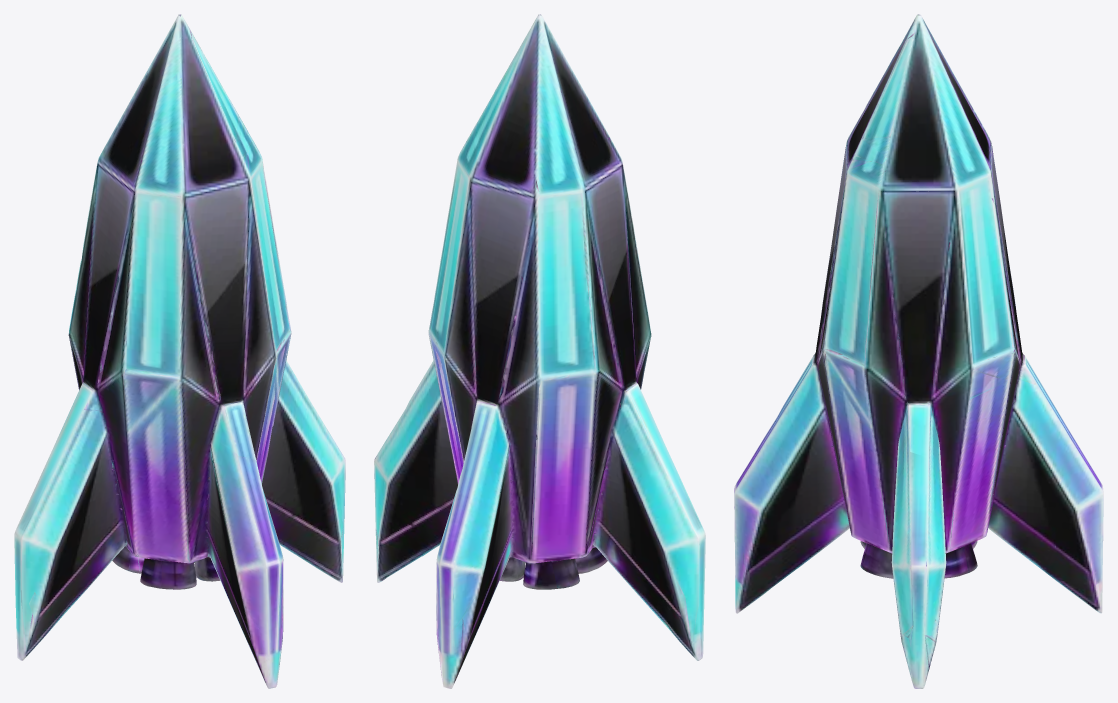
File: rocket.glb
The picture shows the model from 3 angles, left to right: view 1: azimuth 30°, elevation 25°; view 2: azimuth 150°, elevation 25°; view 3: azimuth 270°, elevation 25°; orthographic projection.
Parts seen in each view (by area): view 1: Mesh10; view 2: Mesh10; view 3: Mesh10.
Boxes of the visible parts, left/top/right/bottom form: Mesh10: left=14, top=14, right=345, bottom=688; Mesh10: left=374, top=14, right=705, bottom=688; Mesh10: left=734, top=14, right=1103, bottom=688.
Bounding box in the file's own units: 1.07 × 1.91 × 1.07.
1 material, 1 textured.
